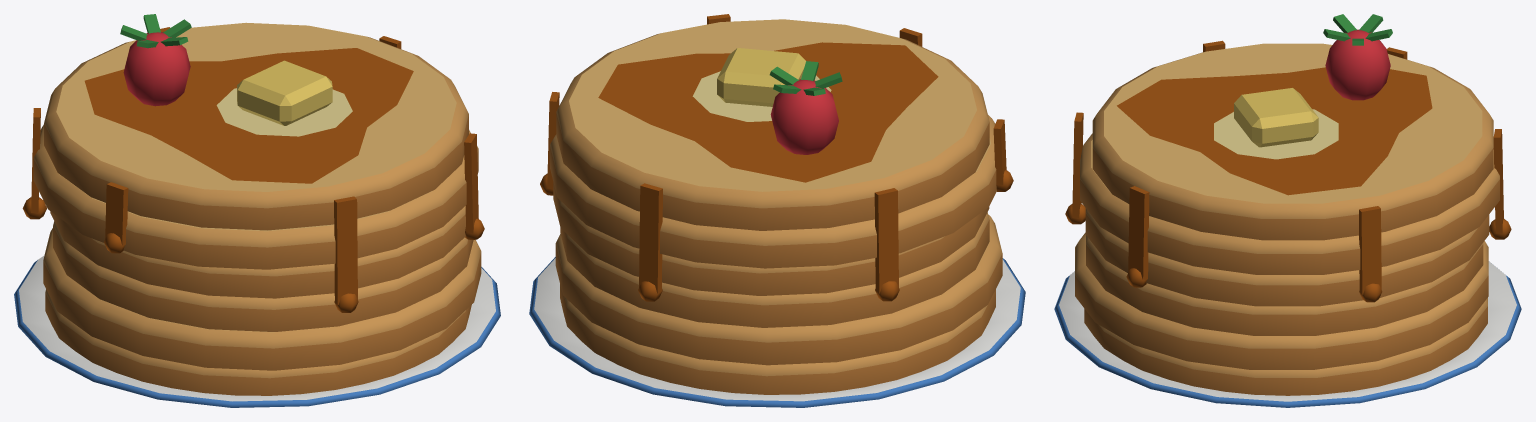
The model's file is kitchen-block.glb.
The picture shows the model from 3 angles, left to right: view 1: azimuth 30°, elevation 25°; view 2: azimuth 150°, elevation 25°; view 3: azimuth 270°, elevation 25°; orthographic projection. The views are drawn at different scales.
Parts seen in each view (by area): view 1: kitchen-block; view 2: kitchen-block; view 3: kitchen-block.
Part boxes in pixels (bbox=[...]): kitchen-block: bbox=[14, 14, 500, 407]; kitchen-block: bbox=[529, 14, 1025, 407]; kitchen-block: bbox=[1054, 14, 1521, 407].
Bounding box in the file's own units: 2 × 1.26 × 2.
